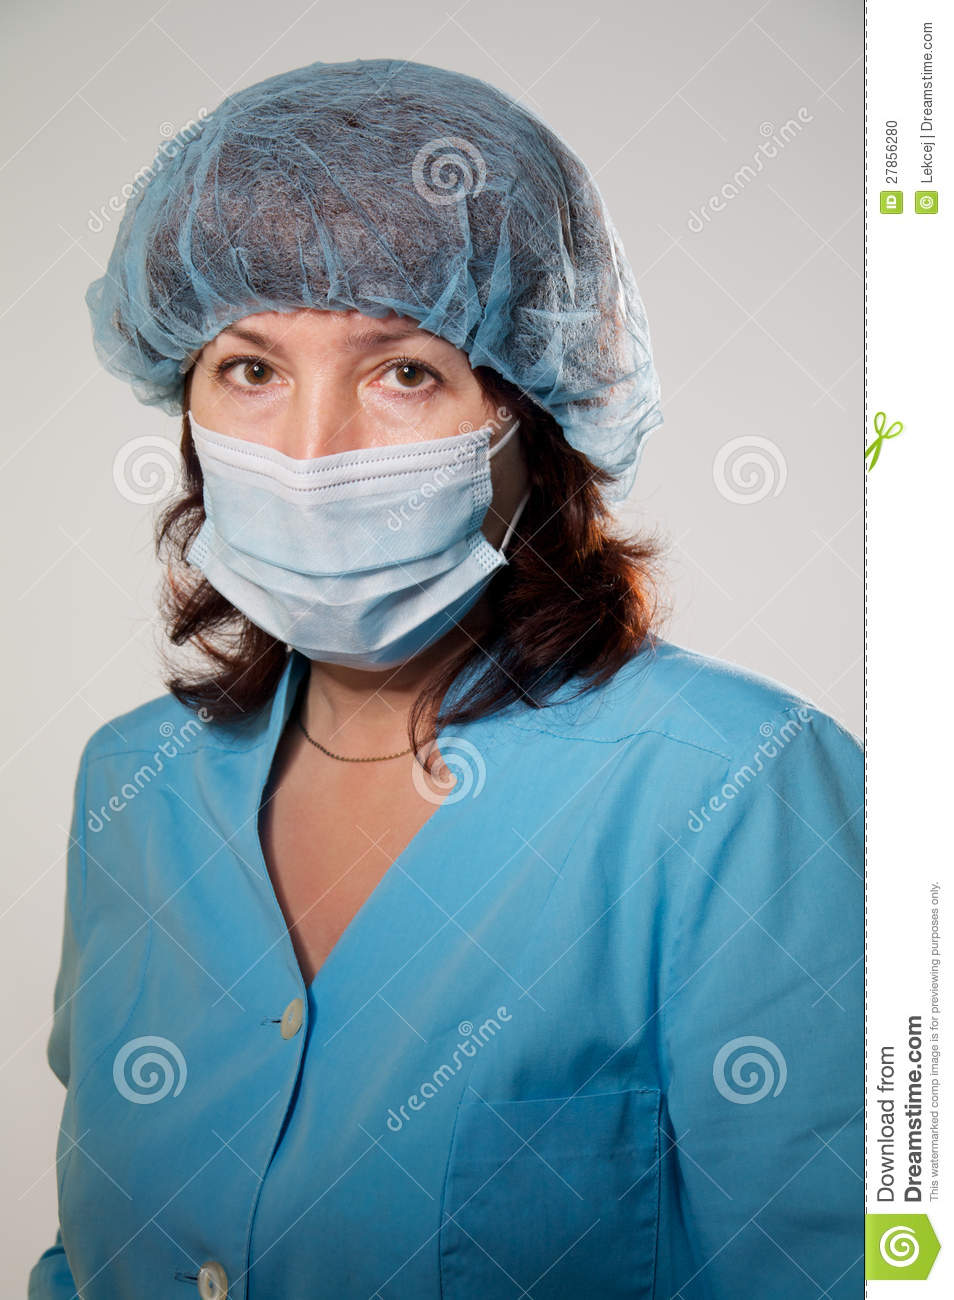mask: (187, 423, 503, 661)
